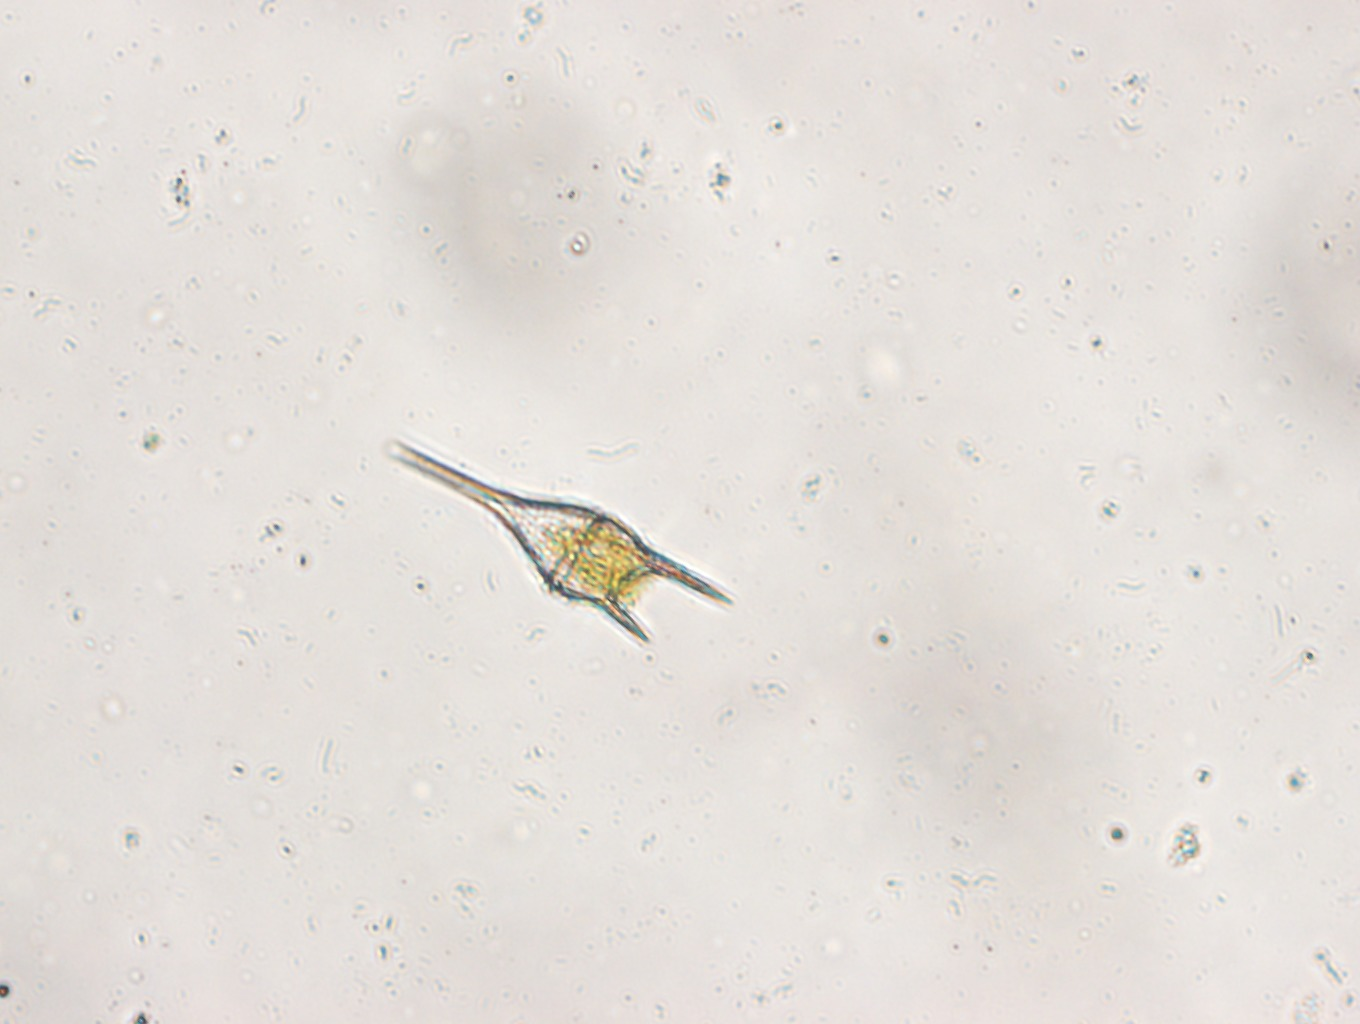ceratium furca: (377, 430, 735, 650)
